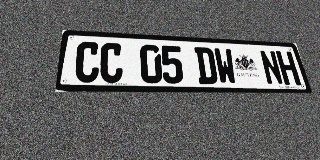0: (140, 44, 163, 83)
5: (161, 45, 184, 84)
C: (74, 41, 100, 83), (99, 42, 123, 83)
D: (194, 47, 218, 84)
H: (275, 51, 301, 85)
N: (259, 50, 284, 85)
W: (213, 48, 238, 84)
